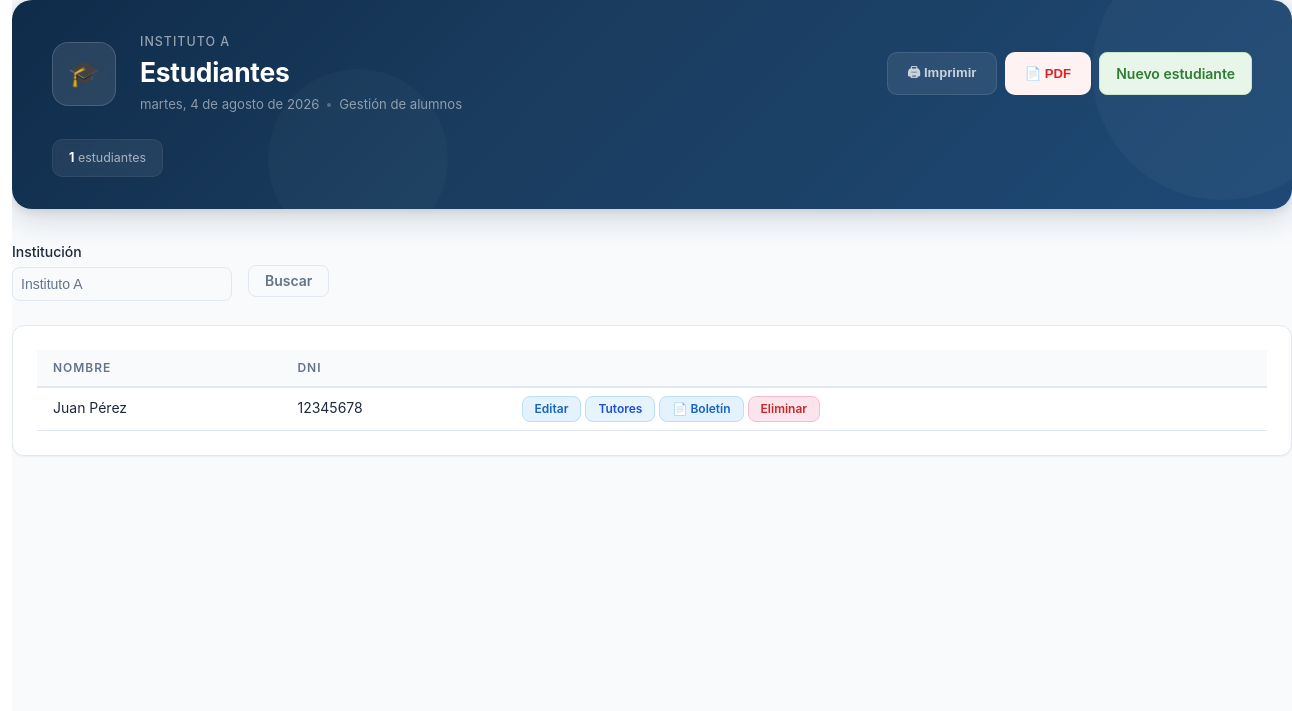
Test: StudentsPage — guardian panel (PR3) › renders an account-less tutor with free-text relationship and "Sin cuenta" badge
What coordinates should you click on to do the following:
click the button "Tutores"
I would click on:
 (620, 409)
Its box is [585, 396, 655, 422].
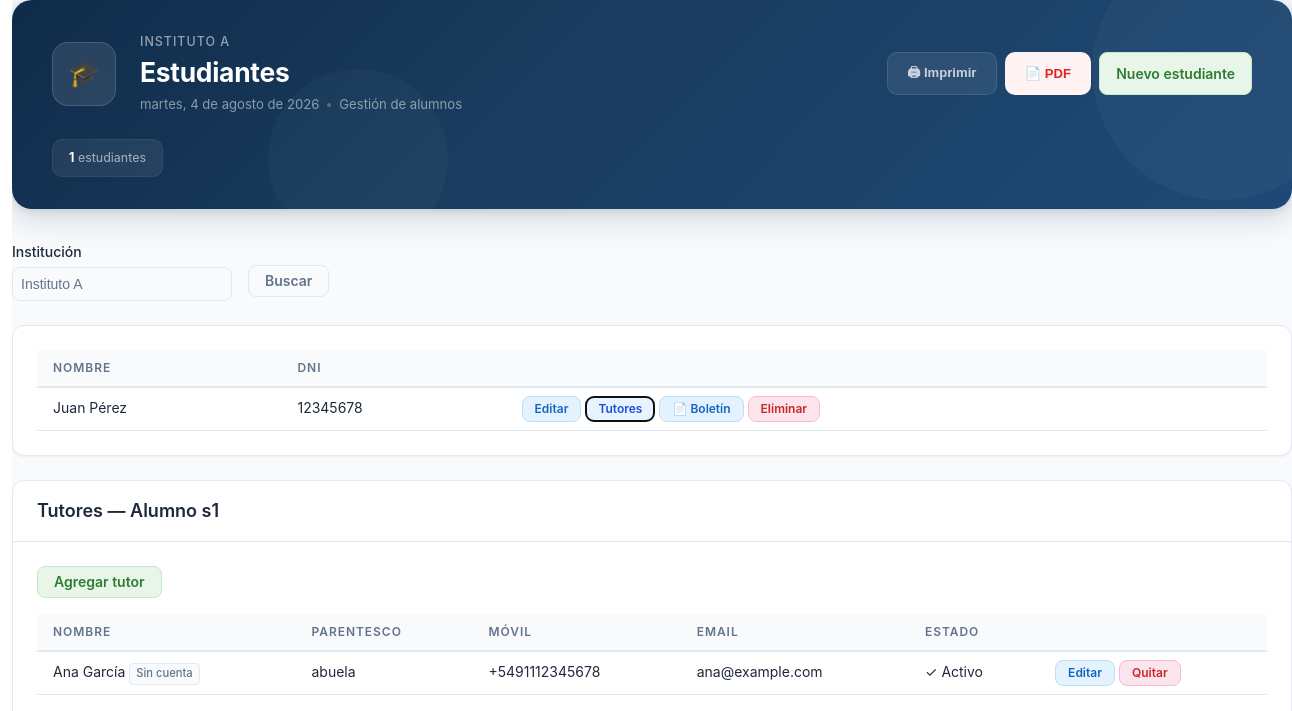
expect the text "Ana García" is shown: met, box [53, 663, 125, 680]
expect the text "abuela" is shown: met, box [296, 651, 472, 694]
expect the text "Sin cuenta" is shown: met, box [129, 663, 200, 684]
